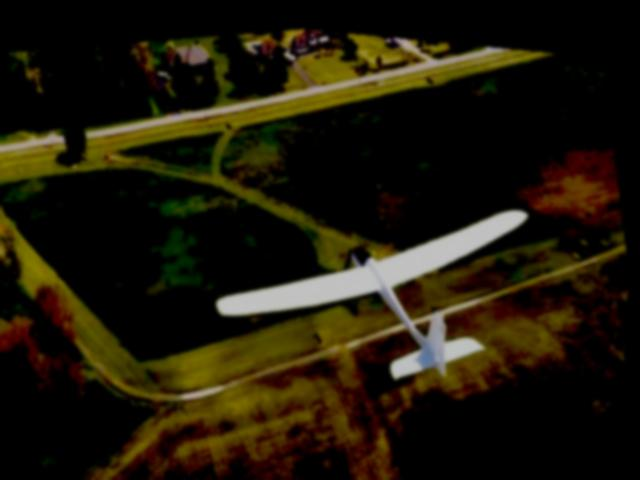iha: (203, 174, 558, 412)
